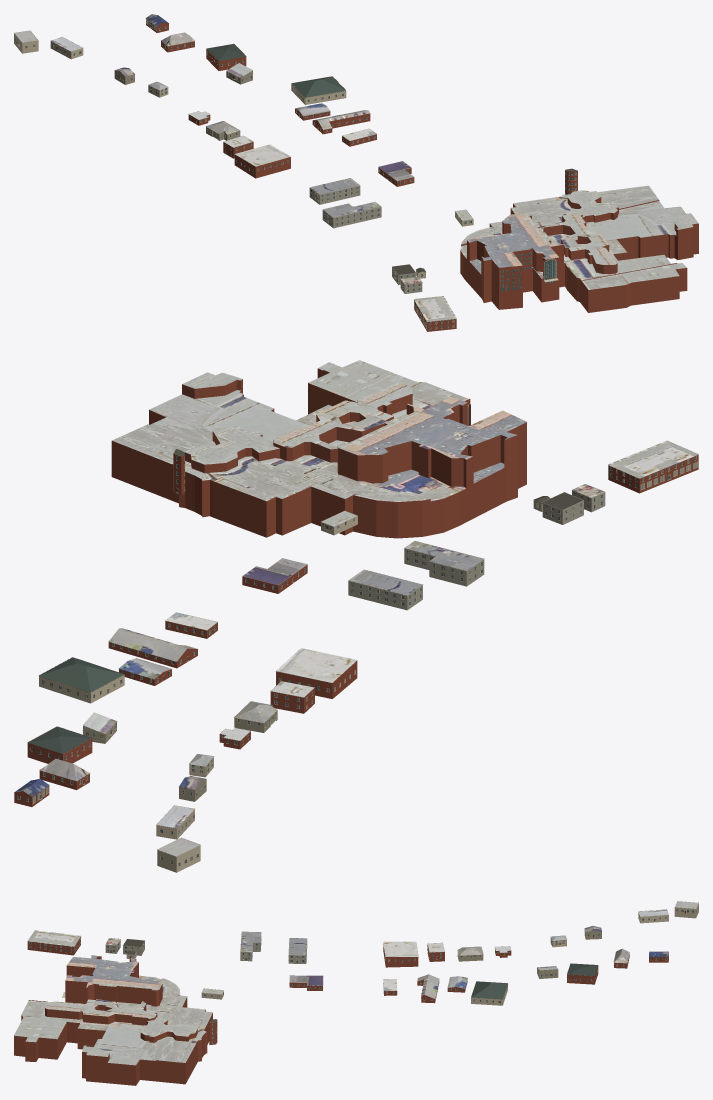
3 views of the same model, one above another, from view 1: azimuth 30°, elevation 25°; view 2: azimuth 150°, elevation 25°; view 3: azimuth 270°, elevation 25° (orthographic). The views are drawn at different scales.
Parts seen in each view (by area): view 1: -1_3_419637252_0, -1_3_419637252_1, -1_3_1248151230_131, -1_3_590877181_4, -1_3_590877180_3; view 2: -1_3_419637252_0, -1_3_419637252_1, -1_3_1248151230_131, -1_3_590877181_4, -1_3_590877180_3; view 3: -1_3_419637252_0, -1_3_419637252_1, -1_3_590877181_4, -1_3_1248151230_131, -1_3_590877180_3.
Boxes of the visible parts, x1=… form: -1_3_419637252_0: x1=14, y1=14, x2=698, y2=331; -1_3_419637252_1: x1=14, y1=20, x2=577, y2=329; -1_3_1248151230_131: x1=309, y1=186, x2=422, y2=293; -1_3_590877181_4: x1=14, y1=33, x2=473, y2=278; -1_3_590877180_3: x1=114, y1=70, x2=252, y2=140; -1_3_419637252_0: x1=14, y1=360, x2=698, y2=866; -1_3_419637252_1: x1=17, y1=449, x2=698, y2=866; -1_3_1248151230_131: x1=348, y1=490, x2=605, y2=610; -1_3_590877181_4: x1=39, y1=500, x2=542, y2=872; -1_3_590877180_3: x1=83, y1=705, x2=277, y2=801; -1_3_419637252_0: x1=14, y1=901, x2=698, y2=1085; -1_3_419637252_1: x1=29, y1=901, x2=698, y2=1043; -1_3_590877181_4: x1=126, y1=903, x2=698, y2=1005; -1_3_1248151230_131: x1=105, y1=938, x2=307, y2=963; -1_3_590877180_3: x1=457, y1=930, x2=601, y2=978.
Size of the model in its own units: 272 by 34.53 by 535.
17 materials, 1 textured.
